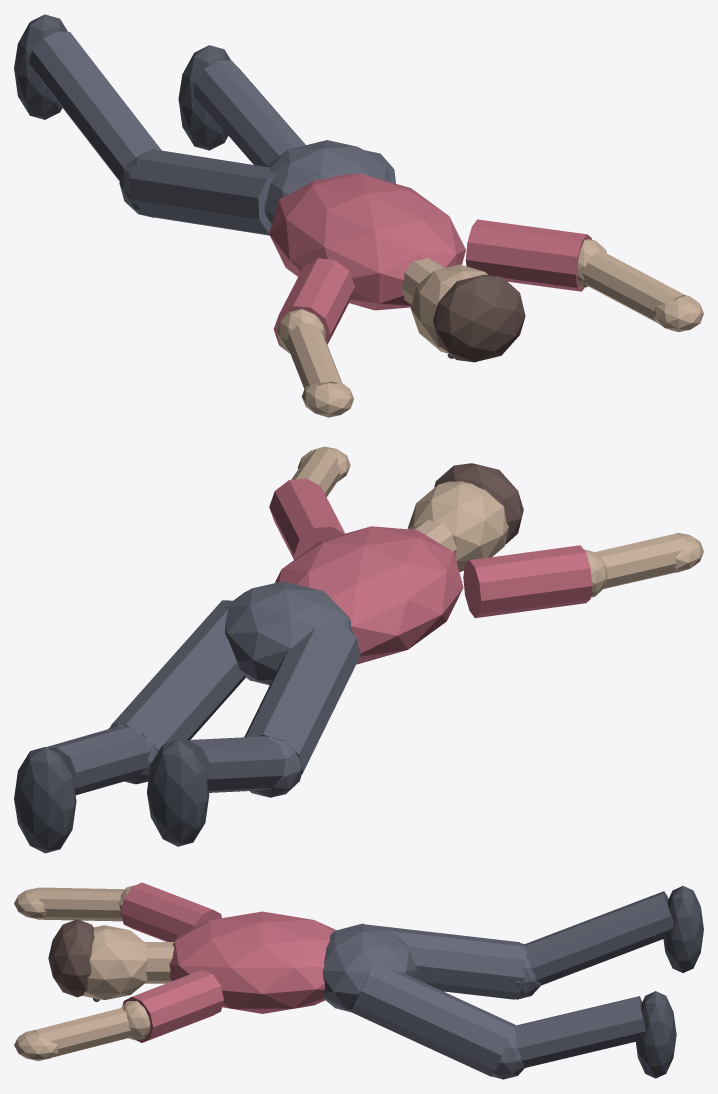
The picture shows the model from 3 angles, top to bottom: view 1: azimuth 30°, elevation 25°; view 2: azimuth 150°, elevation 25°; view 3: azimuth 270°, elevation 25°; orthographic projection. The views are drawn at different scales.
Parts seen in each view (by area): view 1: world; view 2: world; view 3: world.
Boxes of the visible parts, x1,y1,x2,y2 form: world: [14, 14, 703, 417]; world: [14, 446, 703, 853]; world: [14, 882, 703, 1079].
Bounding box in the file's own units: 1.17 × 0.4556 × 2.14.
